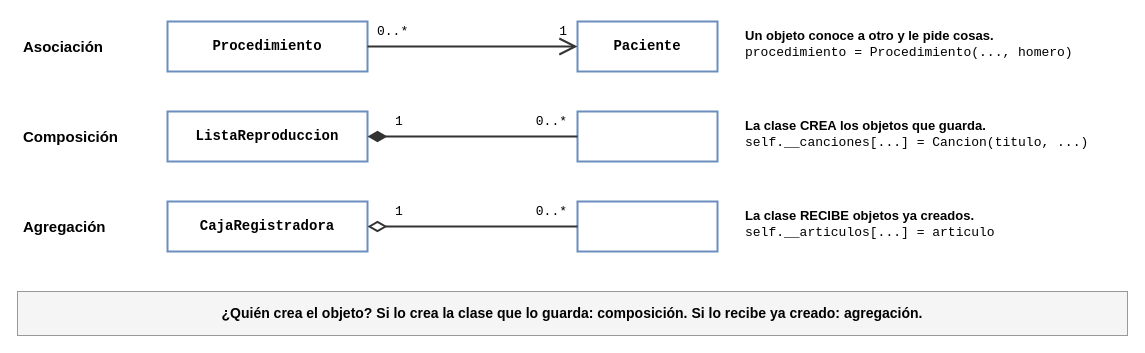
This 1145x353 diagram has some shape labels left out. Each missing label, with the centre of its shape:
Articulo: the point at 647,226
Cancion: the point at 647,136
